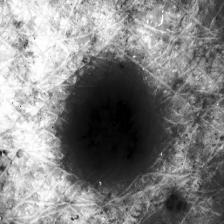Benign Marking or Mole: (72, 87, 146, 169)
